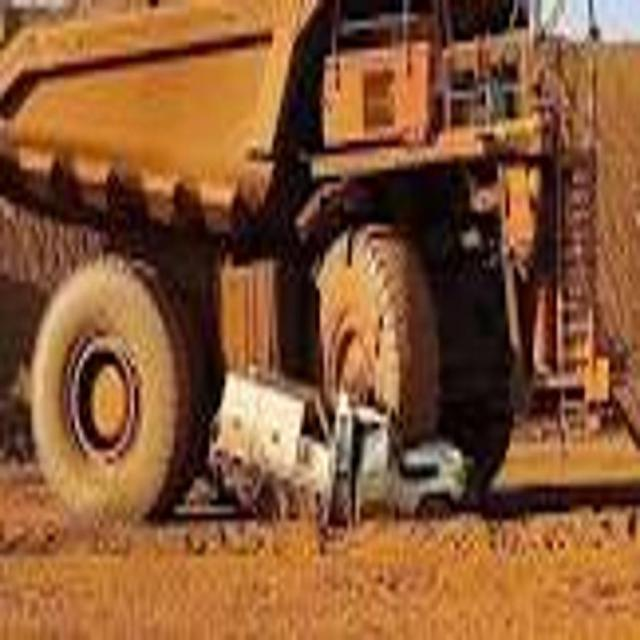dump_truck: (0, 0, 614, 543)
